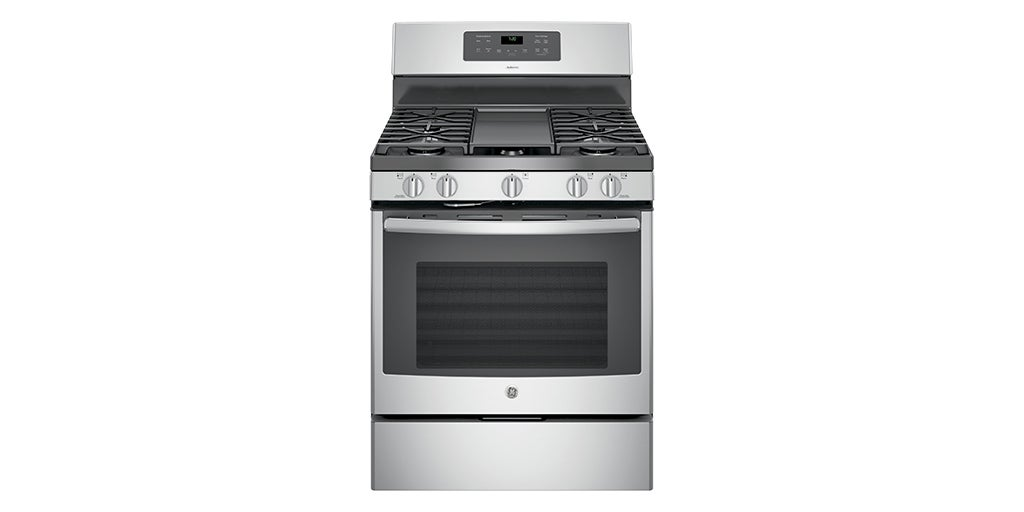stove: (365, 8, 655, 512)
